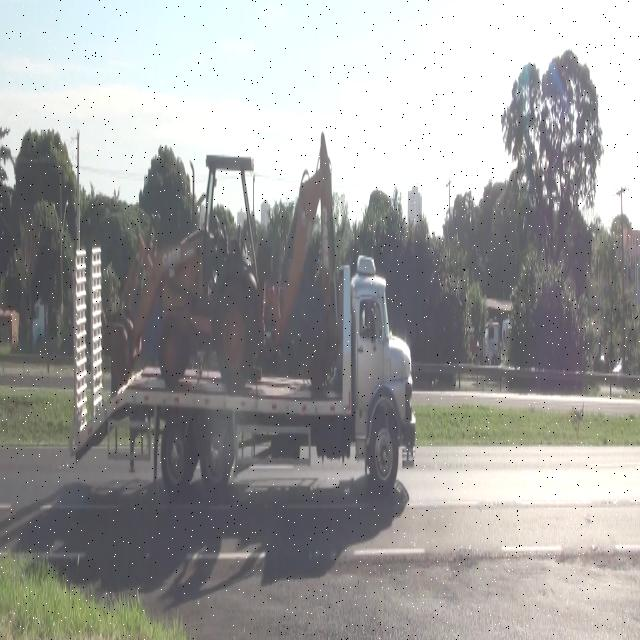-axle: (200, 414, 232, 488), (158, 419, 192, 488), (369, 415, 396, 498)
